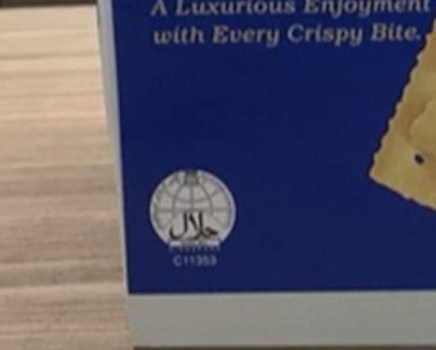halal: (165, 178, 223, 247)
